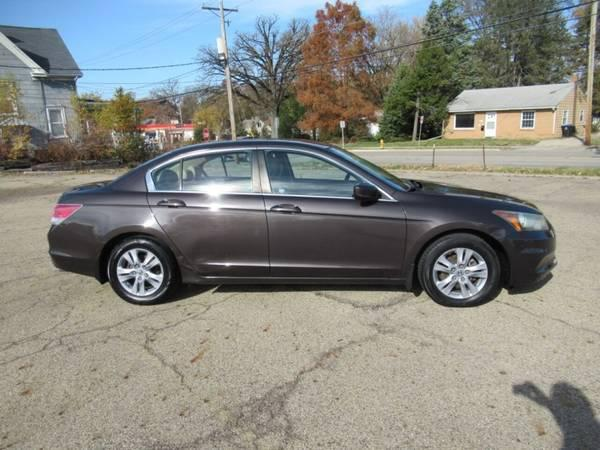Front_Bumper: (489, 224, 556, 294)
Front_Fender: (397, 195, 509, 290)
Front_Left_Door: (57, 192, 155, 242)
Front_Right_Door: (262, 200, 404, 290)
Front_Right_Window: (254, 151, 393, 207)
Hood: (408, 180, 541, 213)
Rear_Bumper: (47, 227, 106, 282)
Rear_Right_Door: (147, 199, 270, 286)
Rear_Right_Window: (140, 151, 261, 200)
Right_Headlight: (494, 209, 553, 232)
Right_Taillight: (52, 202, 84, 226)
Roof: (97, 140, 404, 205)
Wheel: (418, 233, 504, 309), (106, 242, 173, 307)
